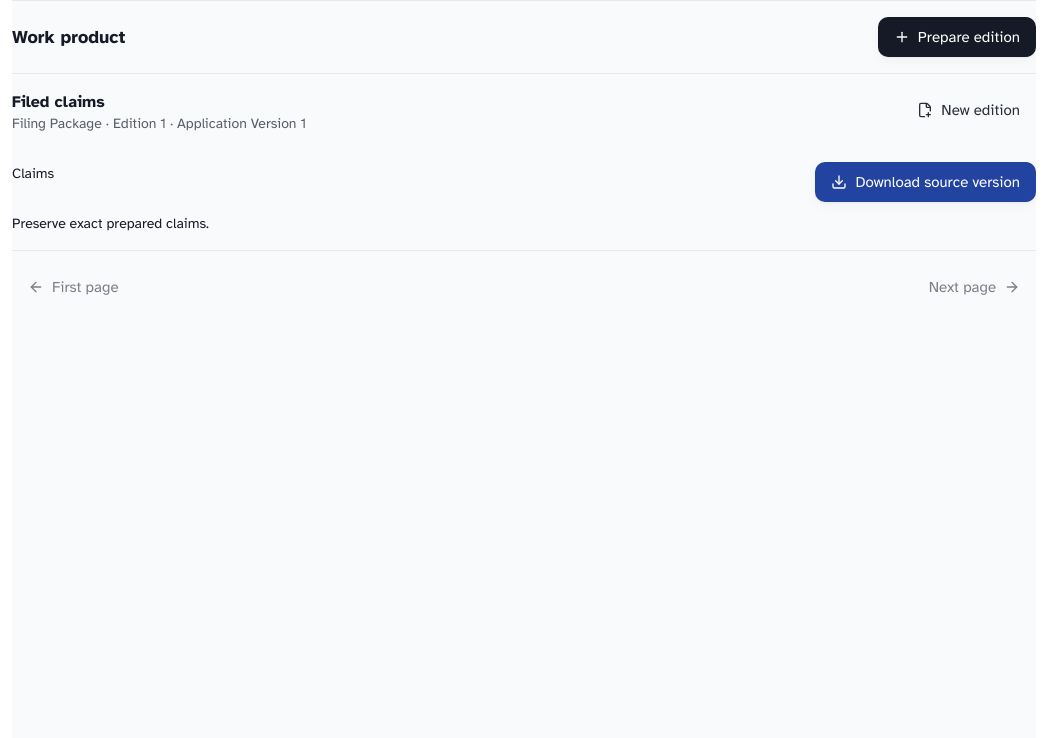
Patent prosecution and immutable work product › preserves a hydrated draft across a failed background discovery read
Click the button "New edition".
click(969, 110)  # box [901, 90, 1036, 130]
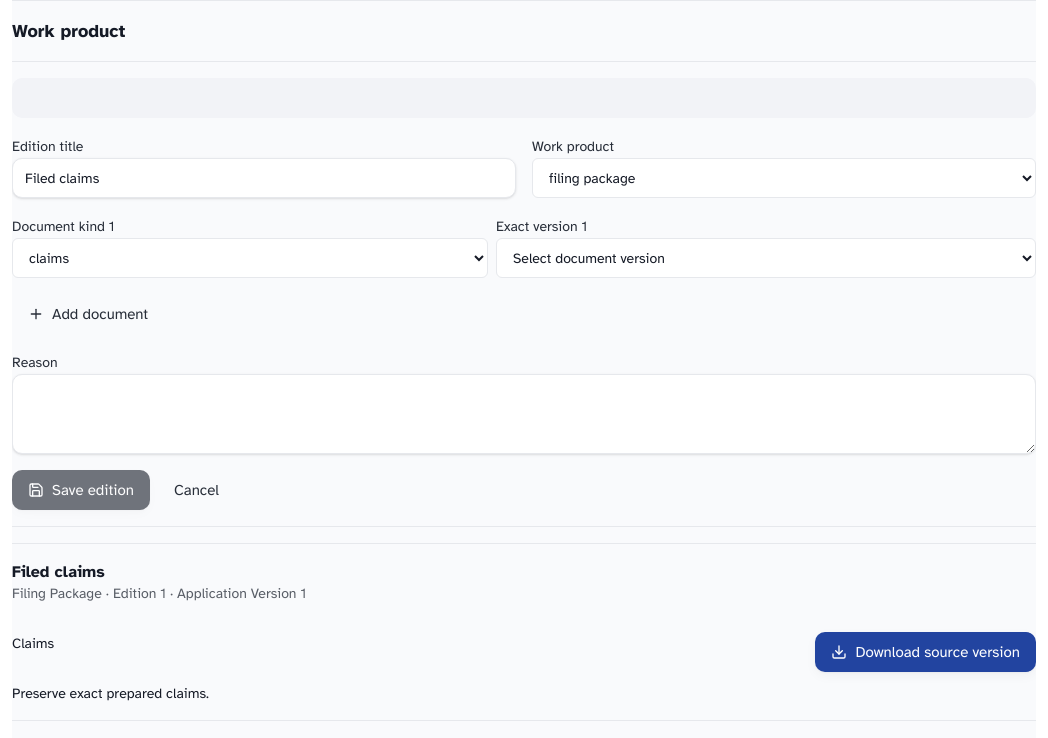
Replace the text in the field labelled "Edition title" with "Unsaved sourced amendment" at x=264, y=178, box [12, 158, 516, 198]
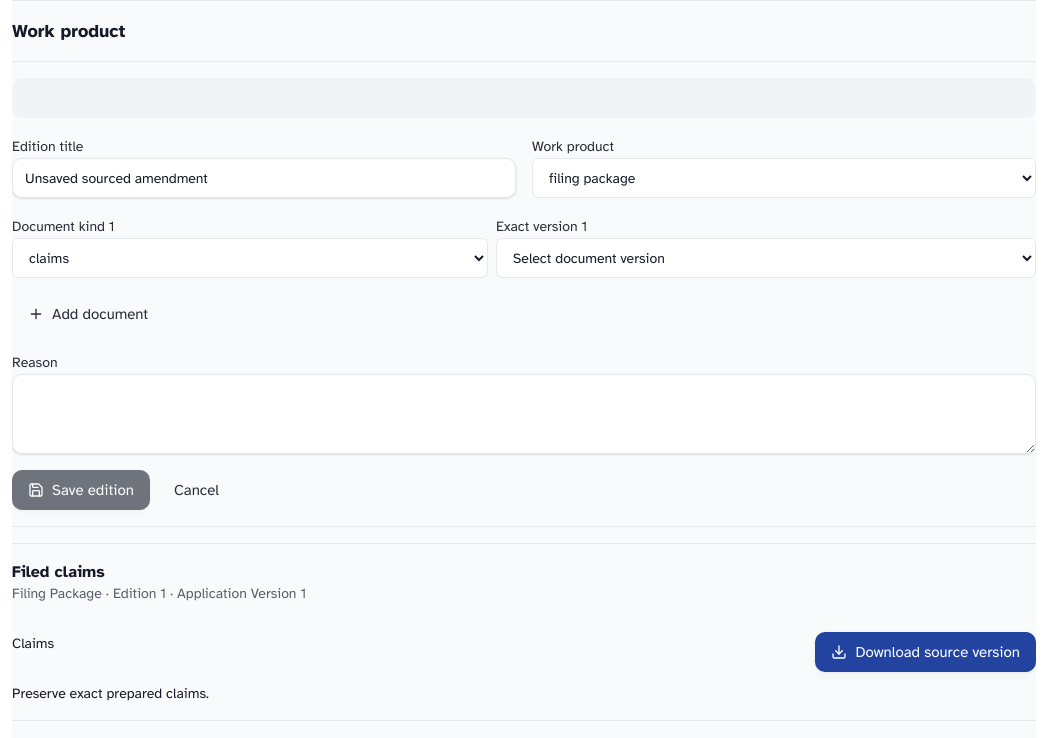
Type "Retain this work through an interrupted list read." into the text box labelled "Reason".
click(524, 414); type("Retain this work through an interrupted list read.")  # box [12, 374, 1036, 454]
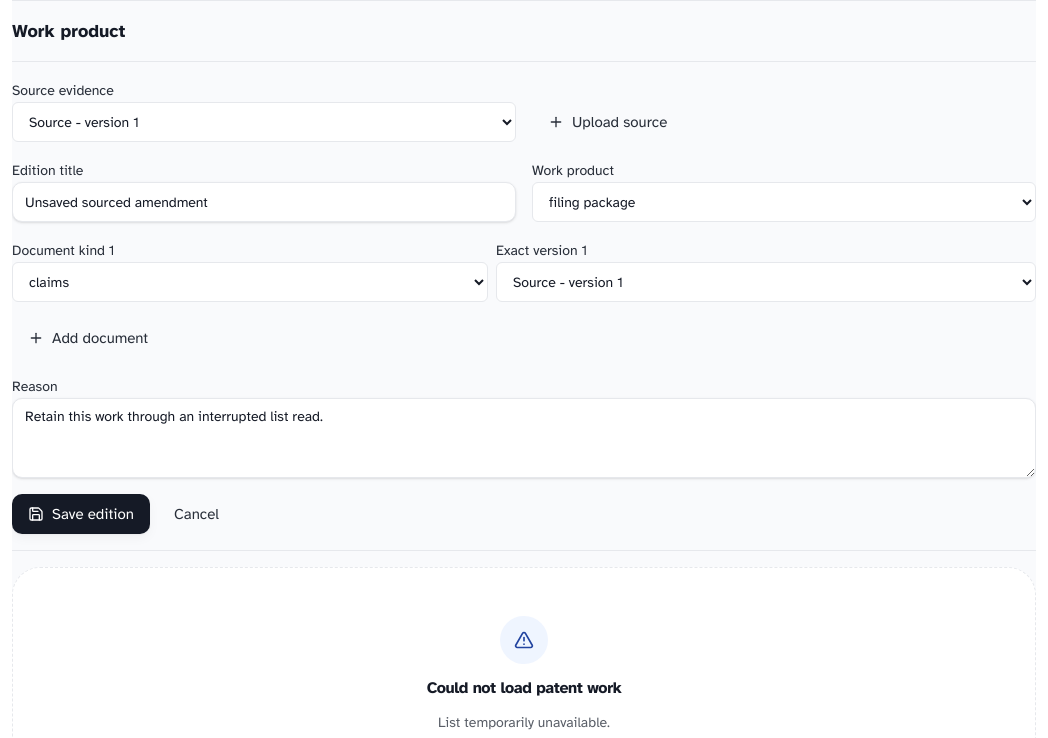
expect the form named "Prepare patent edition" is shown: met
expect the heading "Could not load patent work" is shown: met, box [427, 676, 621, 700]
